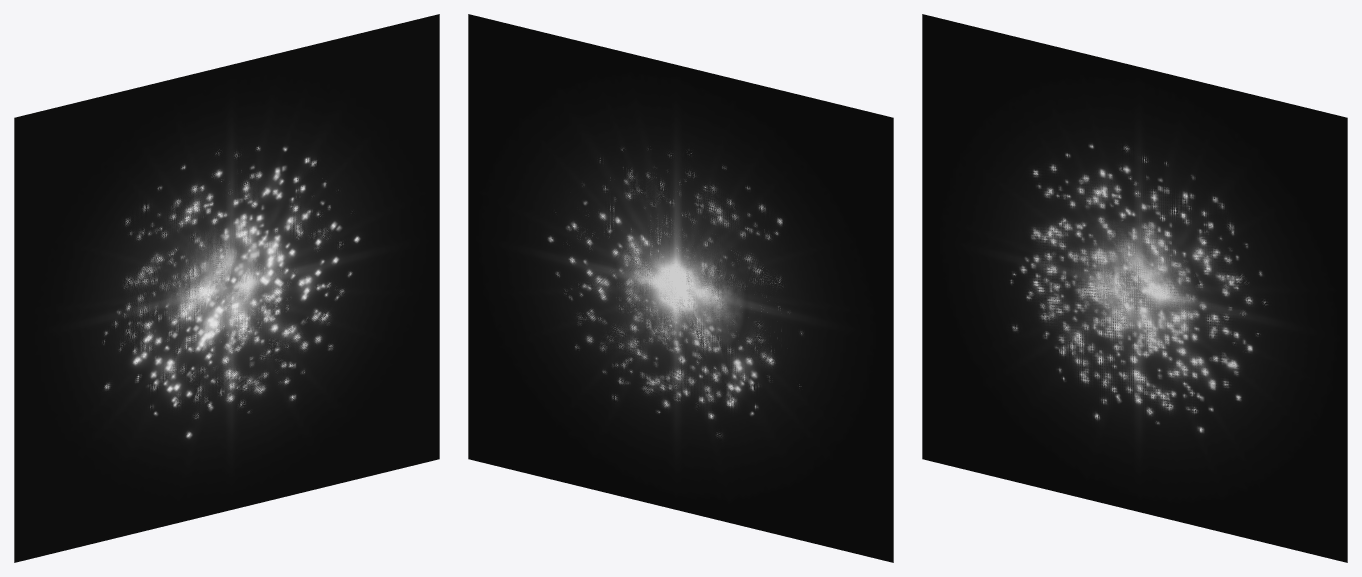
File: si_eos_1200.glb
3 renders of one model, left to right at view 1: azimuth 30°, elevation 25°; view 2: azimuth 150°, elevation 25°; view 3: azimuth 330°, elevation 25°, orthographic.
Visible parts, largest first — view 1: layer_00_si_est_0002, layer_05_si_est_0200, layer_04_si_est_0200, layer_03_si_est_0200, layer_01_si_est_0101, layer_02_si_est_0101; view 2: layer_00_si_est_0002, layer_05_si_est_0200, layer_04_si_est_0200, layer_03_si_est_0200, layer_01_si_est_0101, layer_02_si_est_0101; view 3: layer_00_si_est_0002, layer_04_si_est_0200, layer_03_si_est_0200, layer_05_si_est_0200, layer_01_si_est_0101, layer_02_si_est_0101.
Boxes of the visible parts, bbox=[...] form: layer_00_si_est_0002: bbox=[14, 14, 439, 562]; layer_05_si_est_0200: bbox=[104, 145, 362, 441]; layer_04_si_est_0200: bbox=[113, 154, 344, 413]; layer_03_si_est_0200: bbox=[102, 157, 335, 418]; layer_01_si_est_0101: bbox=[162, 225, 261, 320]; layer_02_si_est_0101: bbox=[166, 223, 234, 329]; layer_00_si_est_0002: bbox=[468, 14, 893, 562]; layer_05_si_est_0200: bbox=[547, 148, 803, 440]; layer_04_si_est_0200: bbox=[564, 158, 783, 413]; layer_03_si_est_0200: bbox=[571, 171, 799, 420]; layer_01_si_est_0101: bbox=[617, 237, 746, 344]; layer_02_si_est_0101: bbox=[620, 245, 743, 347]; layer_00_si_est_0002: bbox=[922, 14, 1347, 562]; layer_04_si_est_0200: bbox=[1018, 142, 1256, 436]; layer_03_si_est_0200: bbox=[1010, 162, 1263, 419]; layer_05_si_est_0200: bbox=[1012, 144, 1267, 422]; layer_01_si_est_0101: bbox=[1070, 219, 1198, 339]; layer_02_si_est_0101: bbox=[1079, 221, 1198, 331].
Size of the model in its own units: 116 by 116 by 8.76e-06.
Materials: 3 (3 with a texture image).
